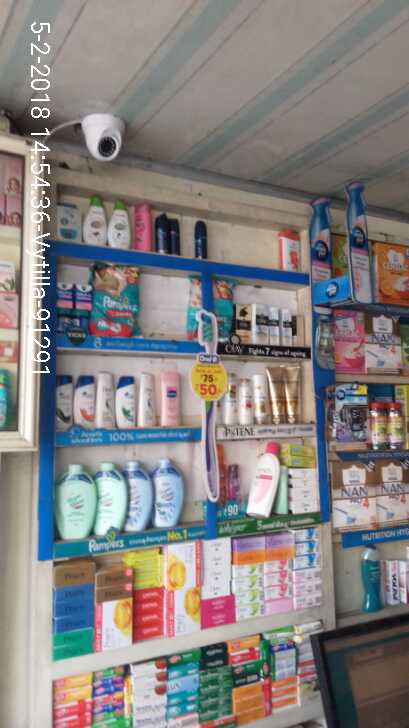vicks: (53, 284, 95, 335)
